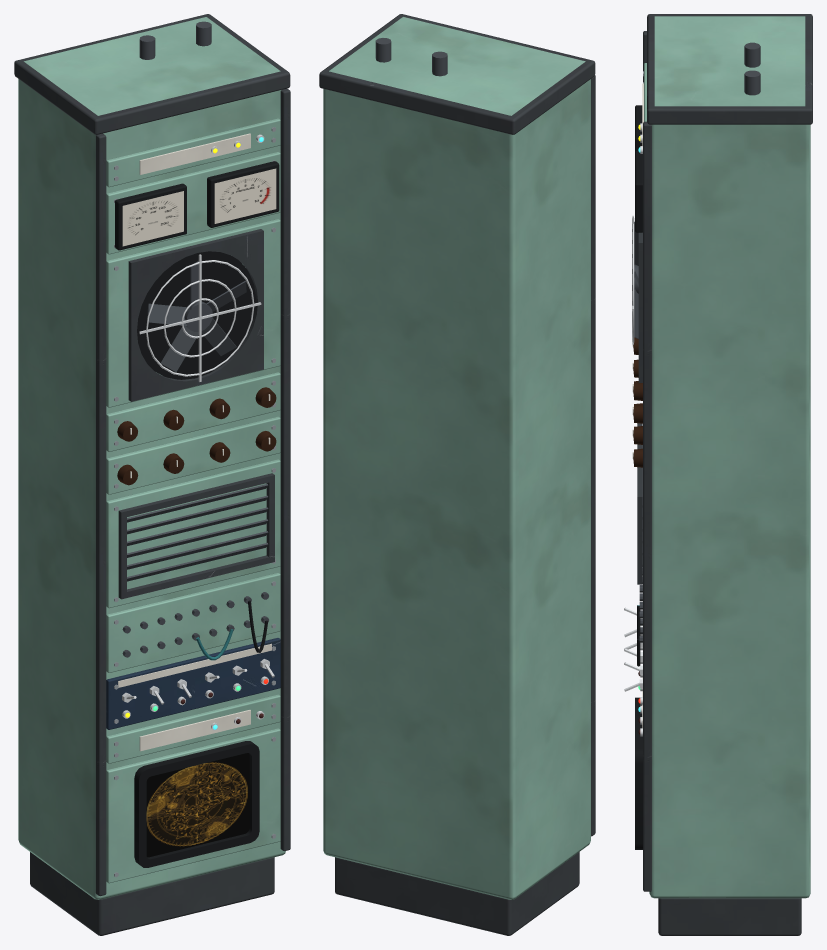
File: Rack_50_5.glb
3 views of the same model, side by side, from view 1: azimuth 30°, elevation 25°; view 2: azimuth 150°, elevation 25°; view 3: azimuth 270°, elevation 25° (orthographic).
Visible parts, largest first — view 1: Rack_50_5_Body; view 2: Rack_50_5_Body; view 3: Rack_50_5_Body.
Boxes of the visible parts, x1,y1,x2,y2 form: Rack_50_5_Body: (14,14,290,935); Rack_50_5_Body: (319,14,595,935); Rack_50_5_Body: (624,14,812,935).
Size of the model in its own units: 0.51 by 2.1 by 0.4216.
Materials: 18 (8 with a texture image).
